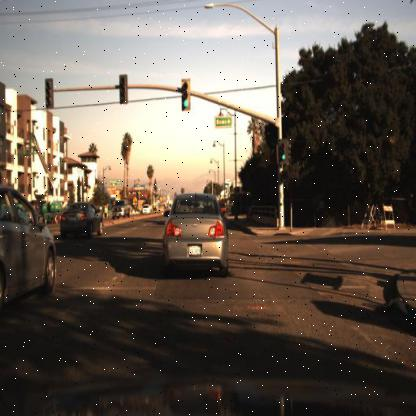car: (146, 182, 228, 296), (2, 187, 61, 318), (53, 198, 106, 242), (59, 197, 103, 240), (111, 195, 132, 224), (107, 199, 130, 219), (139, 202, 153, 217)
trafficLight: (115, 68, 129, 110), (40, 72, 53, 109), (180, 76, 191, 113)
trafficLight-Green: (275, 130, 294, 171), (117, 71, 128, 106), (280, 140, 290, 164)
